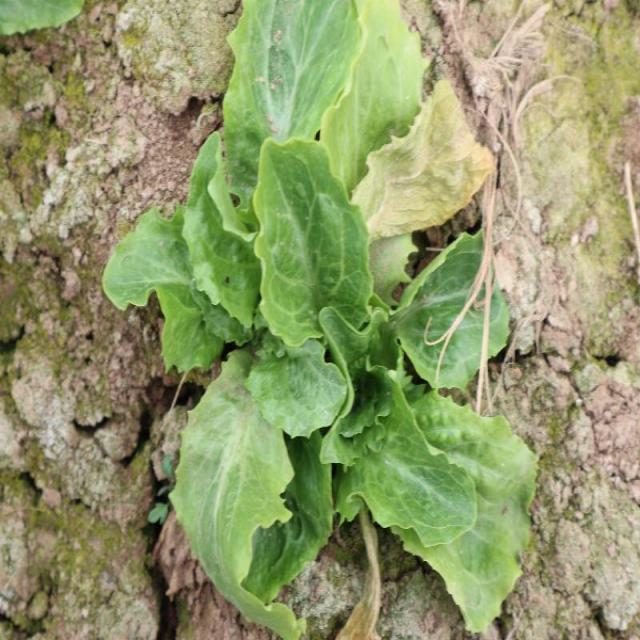crop: (102, 0, 534, 625)
